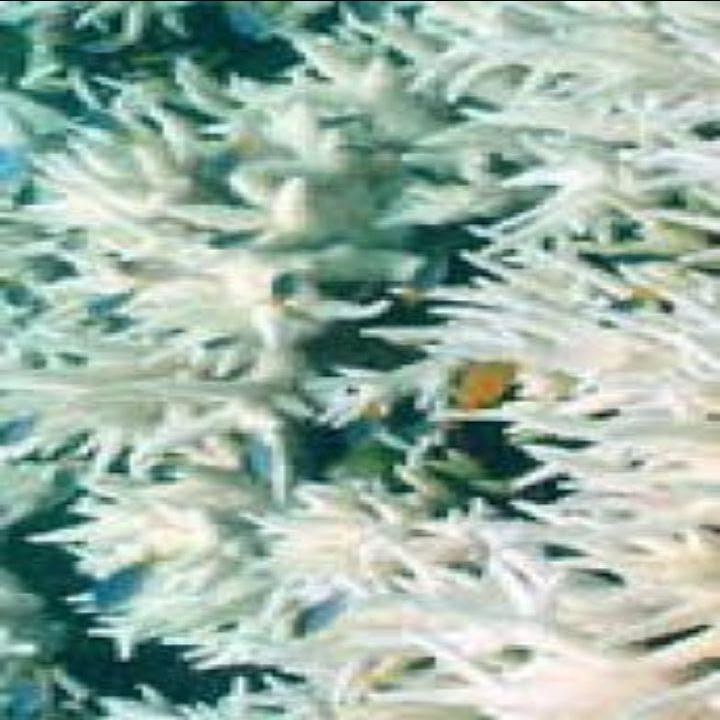Bleached disease: (97, 35, 699, 701)
